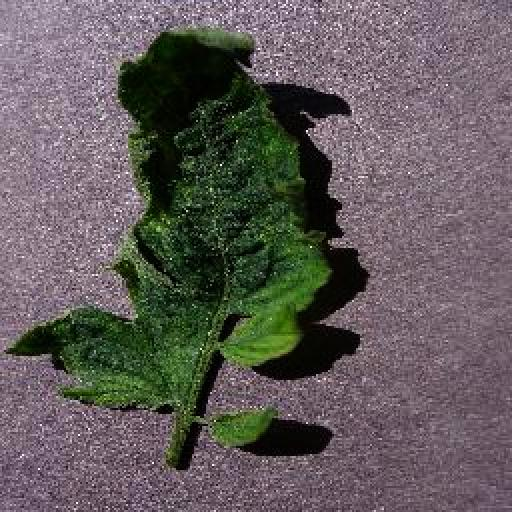disease_tomato: (2, 26, 338, 412)
